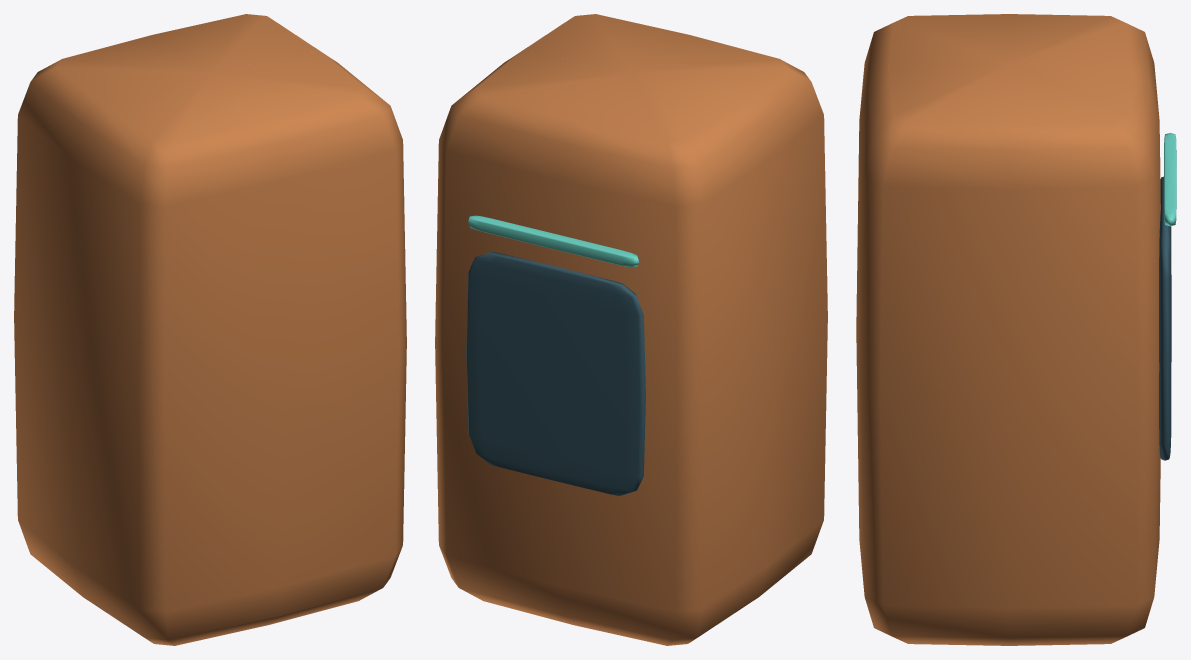
The model's file is pod.glb.
3 renders of one model, left to right at view 1: azimuth 30°, elevation 25°; view 2: azimuth 150°, elevation 25°; view 3: azimuth 270°, elevation 25°, orthographic. The views are drawn at different scales.
Visible parts, largest first — view 1: pod; view 2: pod; view 3: pod.
Part boxes in pixels (box(x1,y1,x2,y2)): pod: box(14, 14, 406, 645); pod: box(435, 14, 827, 645); pod: box(856, 14, 1176, 645).
Size of the model in its own units: 1.3 by 2.3 by 1.25.
